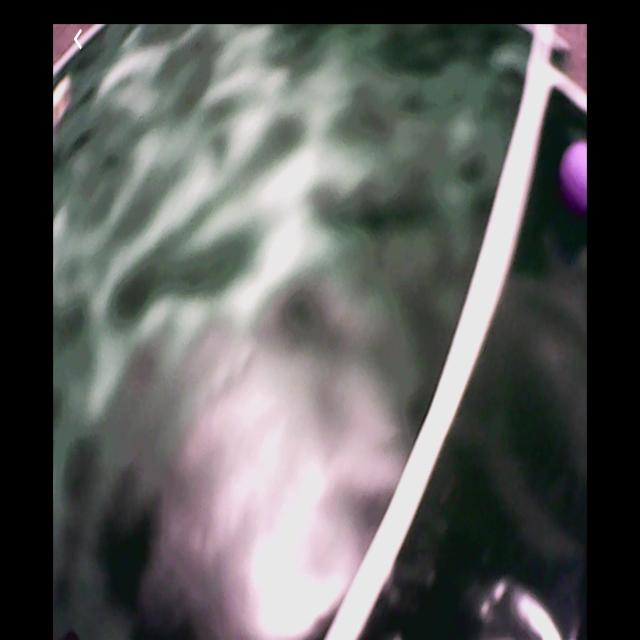ball: (561, 142, 588, 207)
